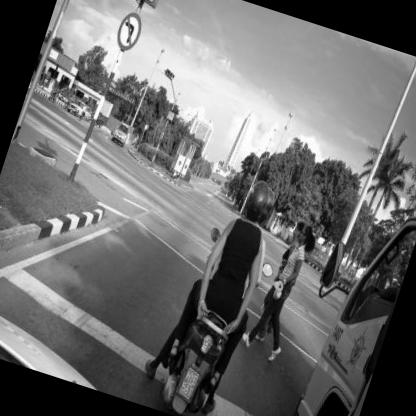moto: (145, 297, 285, 416)
